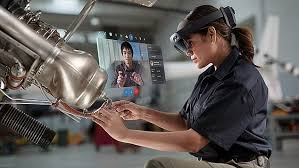hololens: (169, 6, 237, 57)
